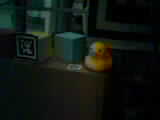duck: (79, 42, 123, 75)
